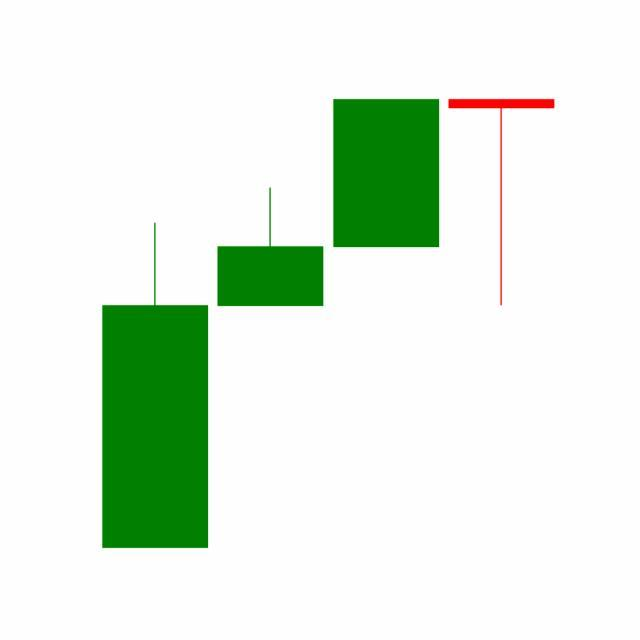Hammer: (444, 97, 560, 309)
